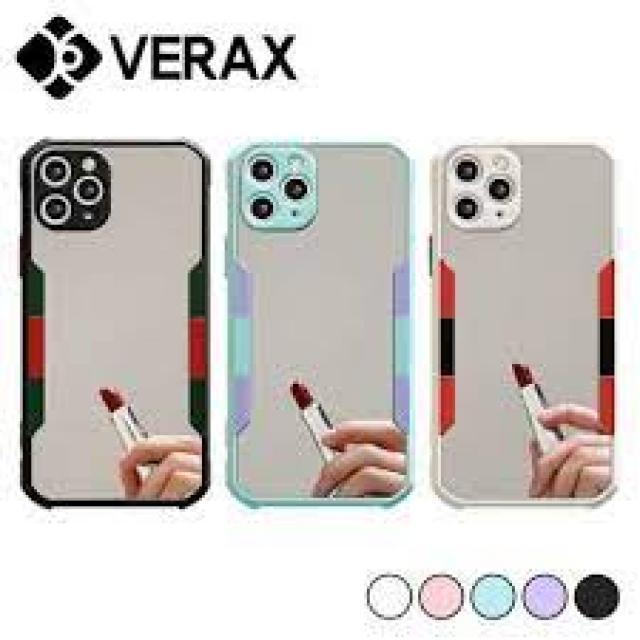Phone: (14, 133, 217, 512), (426, 137, 620, 513), (225, 136, 416, 509)
